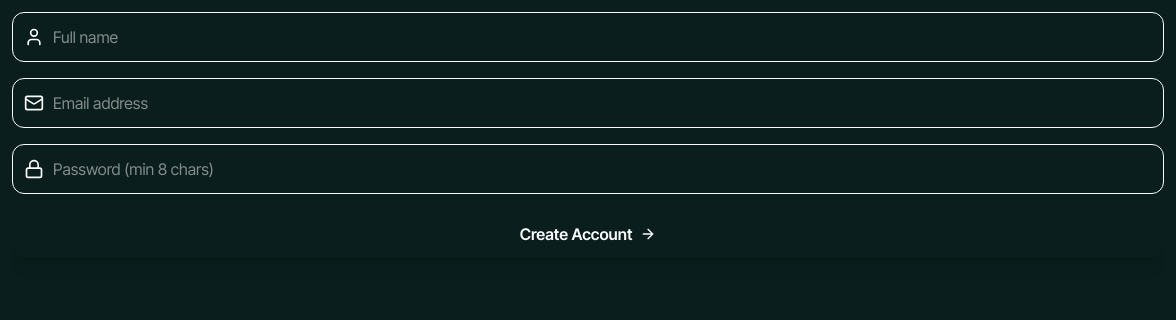
Test: RegisterForm › displays error message on failed registration
In the field with placeholder "Full name": coordinates (588, 37) top-left (12, 12), bottom-right (1164, 62), type "Test User"
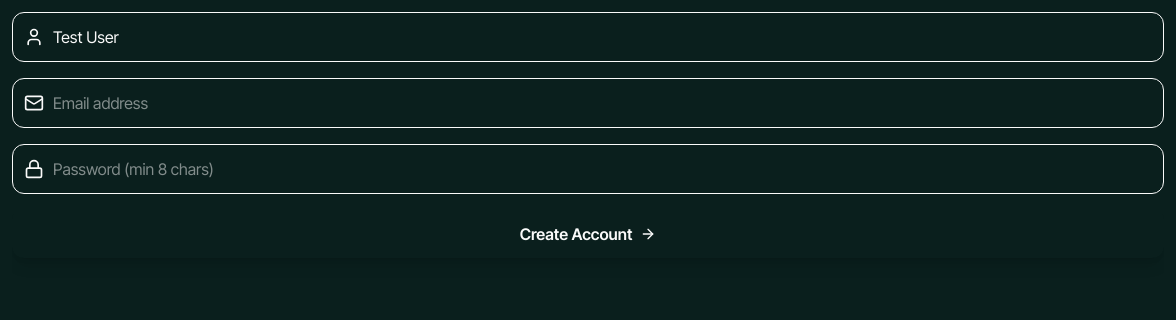
In the field with placeholder "Email address": coordinates (588, 103) top-left (12, 78), bottom-right (1164, 128), type "test@example.com"
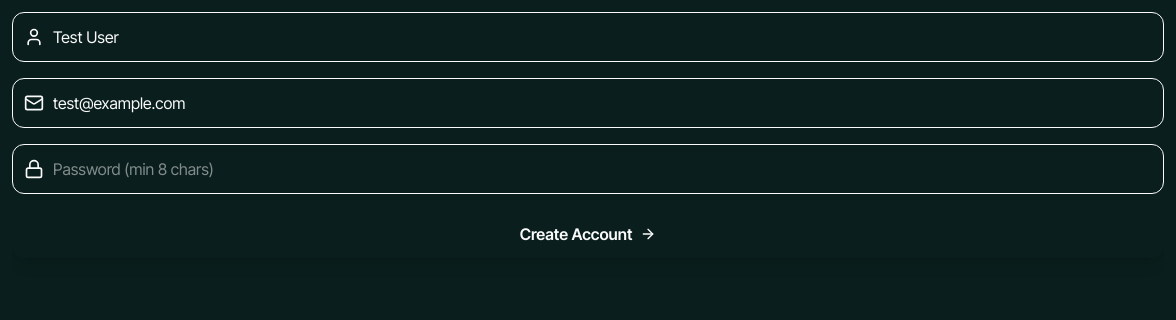
In the password field with placeholder "Password (min 8 chars)": coordinates (588, 169) top-left (12, 144), bottom-right (1164, 194), type "password123"
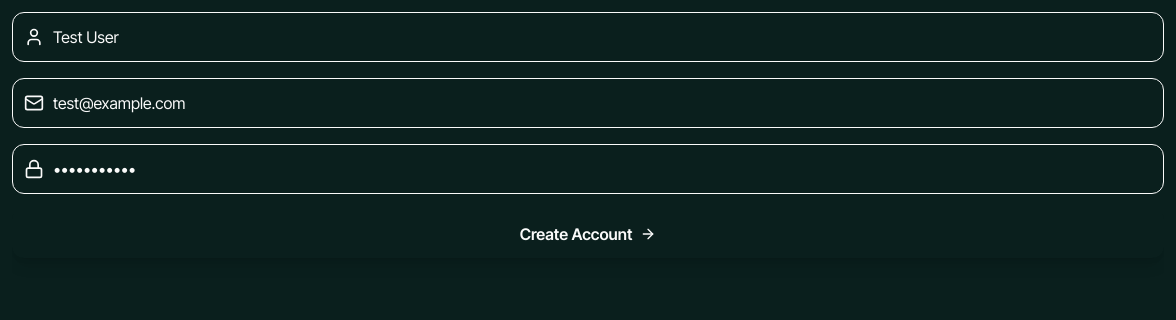
Click the button "Create Account": coordinates (588, 234) top-left (12, 210), bottom-right (1164, 258)
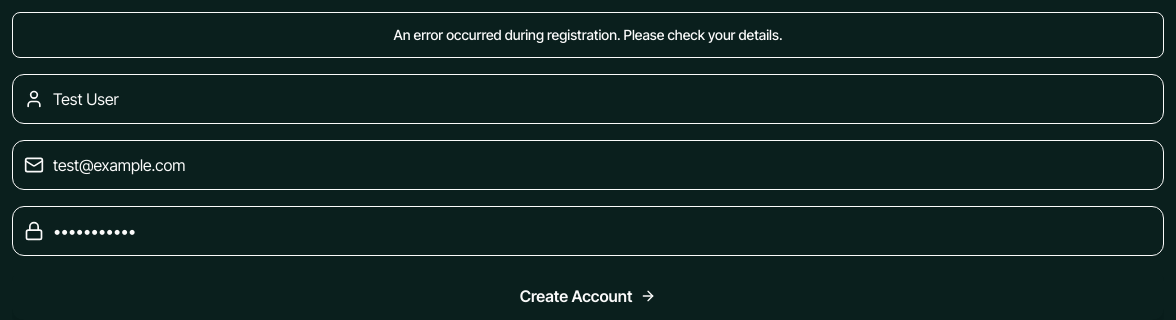
Expected: the text "An error occurred during registration" is shown, top-left (394, 26), bottom-right (782, 43)
